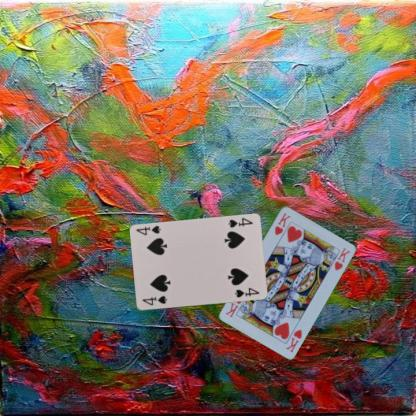4s: (225, 215, 254, 229), (140, 293, 168, 307)
Kh: (283, 326, 304, 354), (272, 210, 292, 237)
